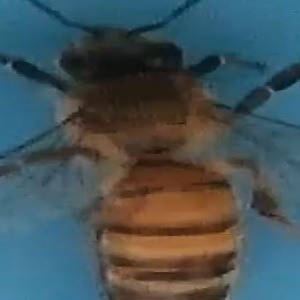bee: (13, 1, 275, 300)
